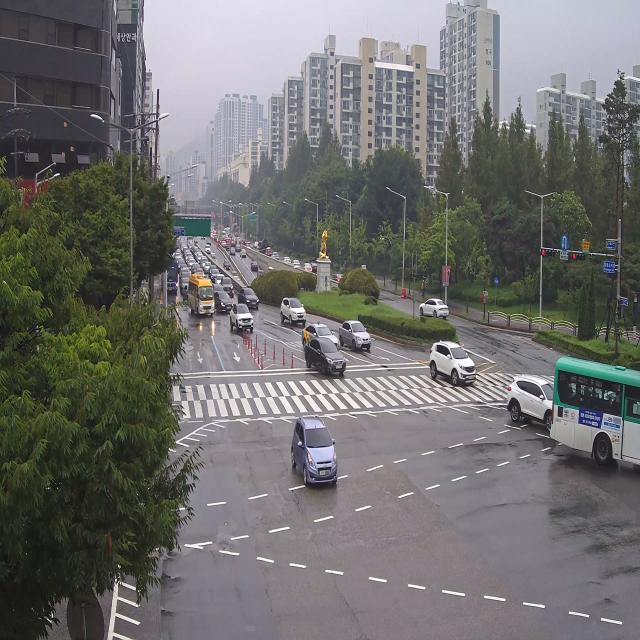Bus: (551, 348, 640, 489), (187, 270, 217, 322), (165, 257, 179, 299)
Car: (410, 320, 481, 399), (283, 408, 344, 496), (504, 368, 556, 434), (304, 331, 342, 380), (338, 313, 372, 361), (300, 317, 342, 354), (274, 288, 312, 328), (416, 295, 451, 324), (228, 302, 255, 338), (237, 282, 260, 310), (212, 289, 235, 316), (221, 275, 235, 301), (331, 269, 345, 286), (210, 282, 223, 296), (221, 256, 231, 273), (301, 260, 312, 275), (215, 272, 226, 286), (181, 277, 190, 294), (183, 285, 191, 303), (310, 259, 319, 275), (180, 271, 190, 284), (191, 262, 200, 276), (280, 253, 290, 265), (290, 256, 299, 269), (250, 258, 258, 272), (271, 250, 280, 262), (204, 260, 212, 272), (180, 268, 189, 278), (211, 268, 218, 280), (265, 247, 272, 258), (180, 262, 189, 270), (188, 257, 194, 269), (205, 245, 211, 257), (232, 271, 239, 281), (178, 258, 184, 269), (197, 267, 204, 274), (258, 270, 264, 278), (206, 239, 212, 247)
Truck: (258, 237, 268, 256), (210, 252, 217, 264)
